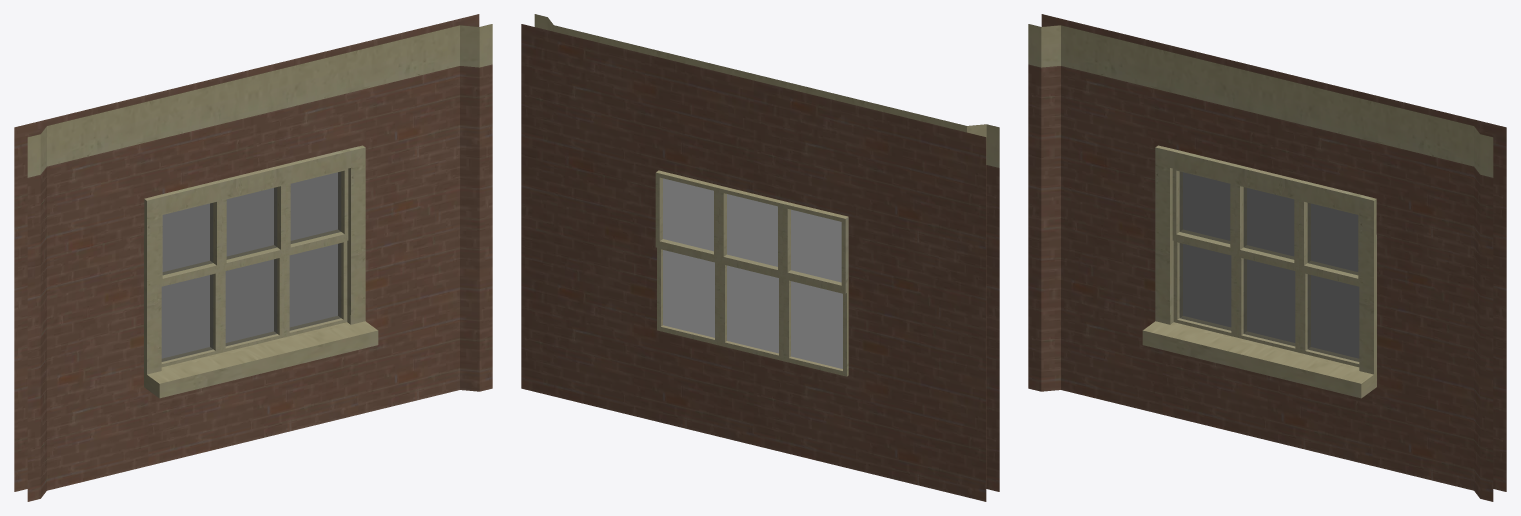
The model's file is Brick_Inset_Window.glb.
3 renders of one model, left to right at view 1: azimuth 30°, elevation 25°; view 2: azimuth 150°, elevation 25°; view 3: azimuth 330°, elevation 25°, orthographic.
Parts seen in each view (by area): view 1: Brick_Inset_Window; view 2: Brick_Inset_Window; view 3: Brick_Inset_Window.
Part boxes in pixels (x1=…): Brick_Inset_Window: x1=14, y1=14, x2=492, y2=501; Brick_Inset_Window: x1=521, y1=14, x2=999, y2=501; Brick_Inset_Window: x1=1028, y1=14, x2=1506, y2=501.
Size of the model in its own units: 4 by 3 by 0.374.
4 materials, 2 textured.
